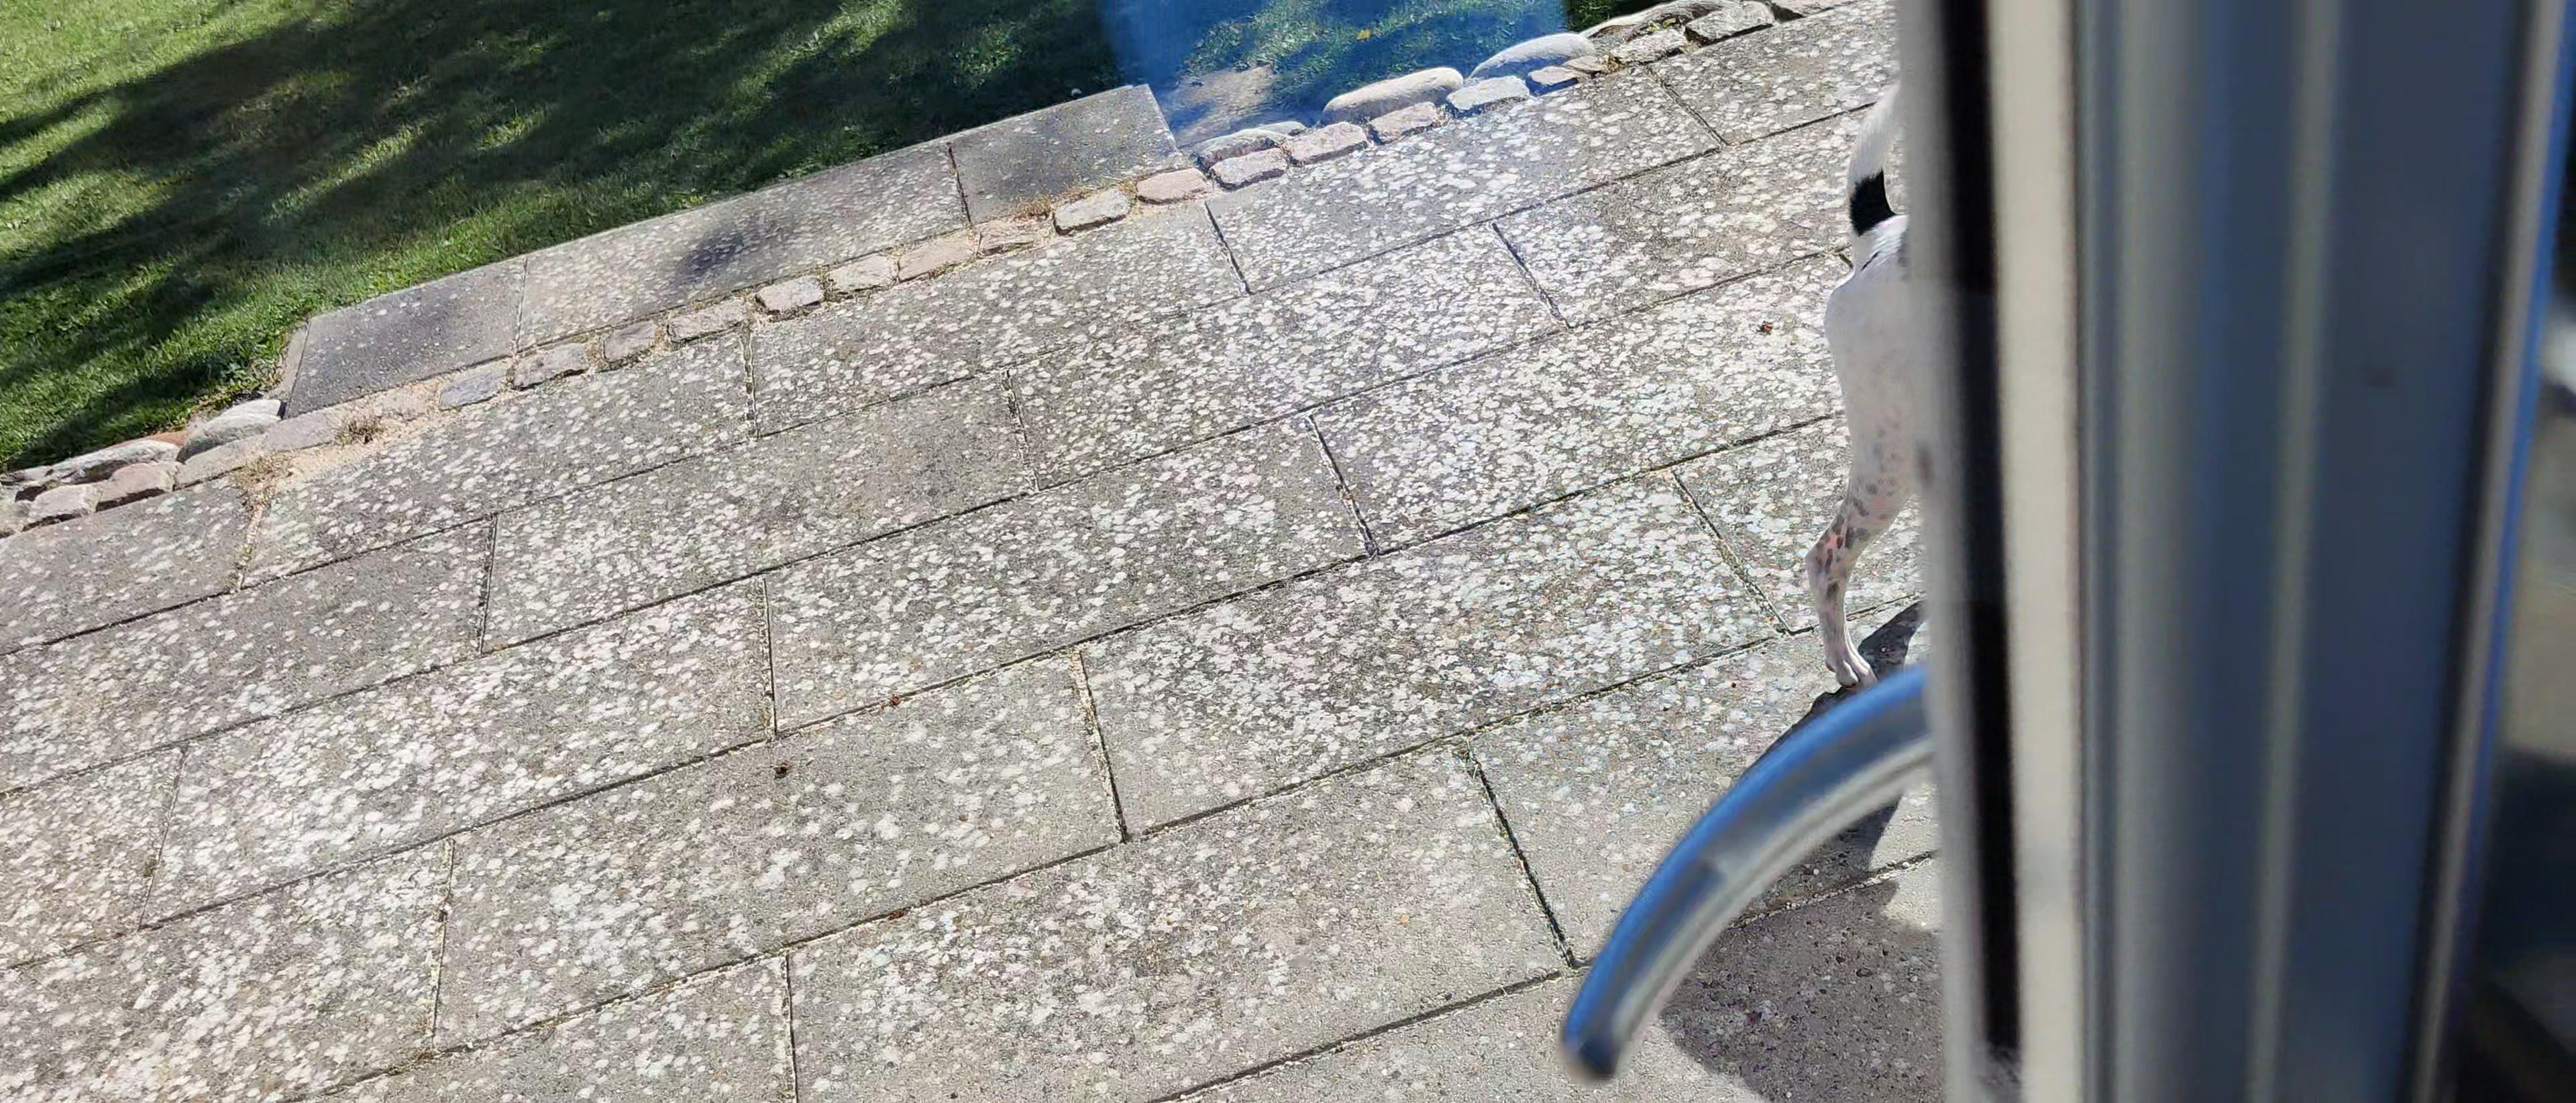Dog: (1748, 59, 1991, 727)
